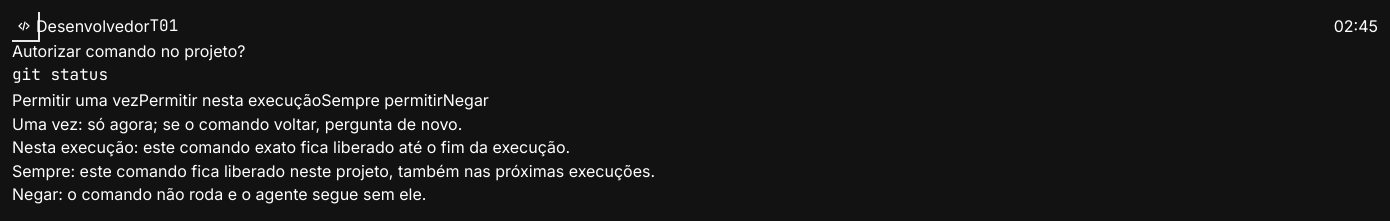
Test: PermissionMessage: decisões › 'Sempre permitir' com always_allowed: envia always e mostra 'Liberado permanentemente'
Click the button "Sempre permitir" at (382, 100), box [321,87,443,113]
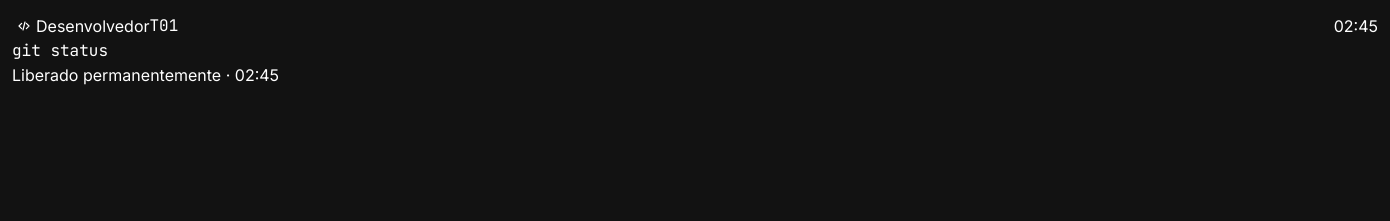
Expected: the text "Liberado permanentemente · 02:45" is shown, [12,65,279,85]
